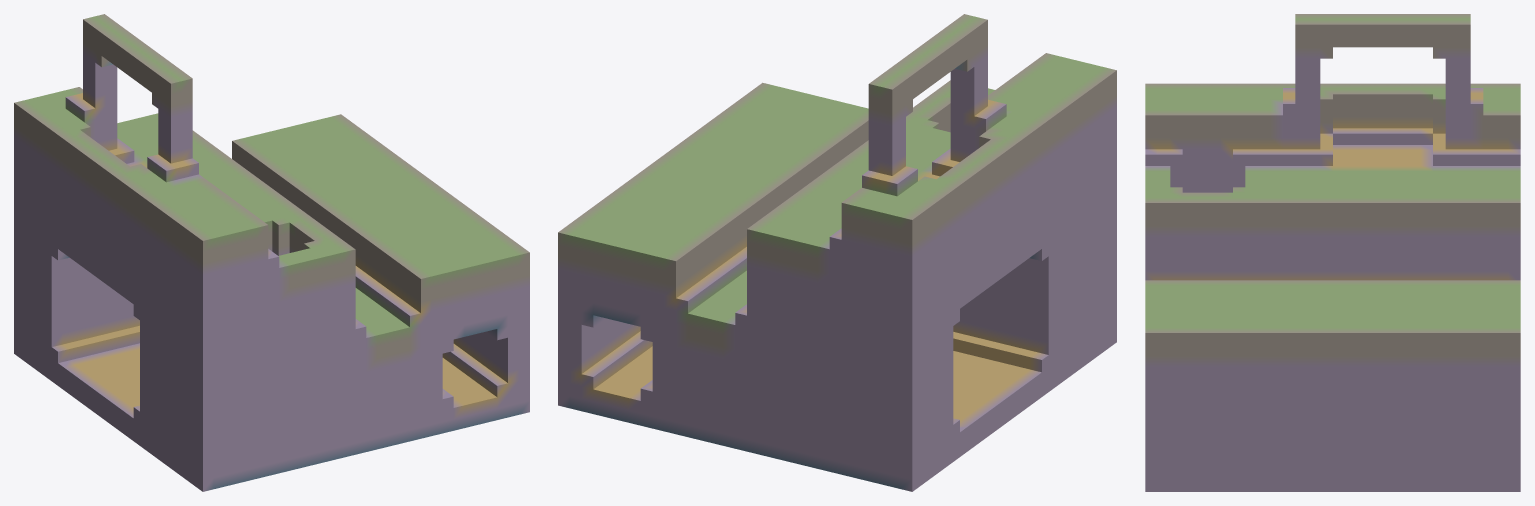
File: temoin_a_sculpter.glb
The picture shows the model from 3 angles, left to right: view 1: azimuth 30°, elevation 25°; view 2: azimuth 150°, elevation 25°; view 3: azimuth 270°, elevation 25°; orthographic projection. The views are drawn at different scales.
Parts seen in each view (by area): view 1: MasterBlock; view 2: MasterBlock; view 3: MasterBlock.
Part boxes in pixels (x1,y1,x2,y2): MasterBlock: (14, 14, 529, 491); MasterBlock: (558, 14, 1116, 491); MasterBlock: (1145, 14, 1520, 491).
Bounding box in the file's own units: 7.5 × 7.5 × 7.5.
